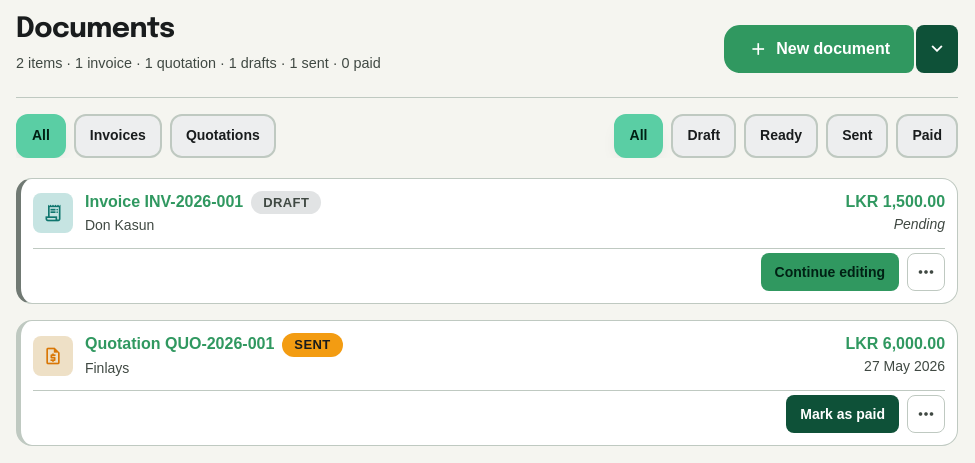
Test case: Documents page › filters to quotations only when Quotations toggle clicked
Click the radio button labelled "Quotations" at [223, 136], box [170,114,276,158]
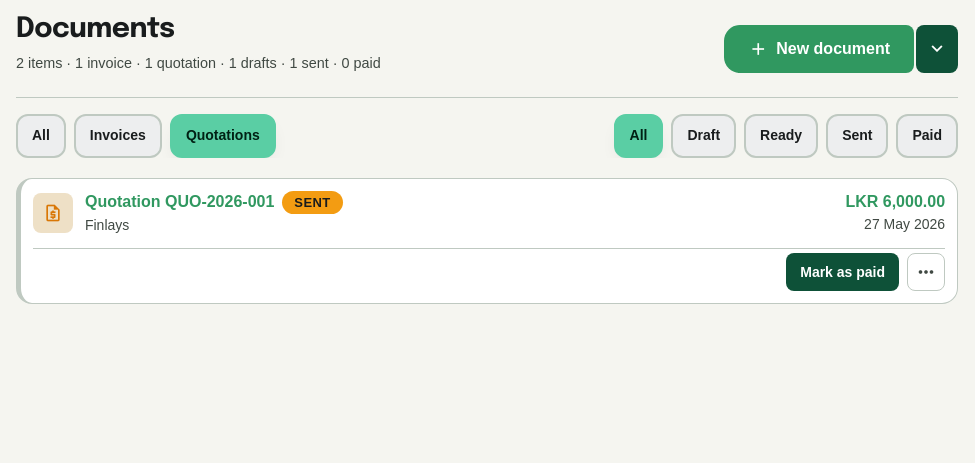
Expected: the text "Finlays" is shown, [85,217,129,233]
Expected: the text "Don Kasun" is gone
